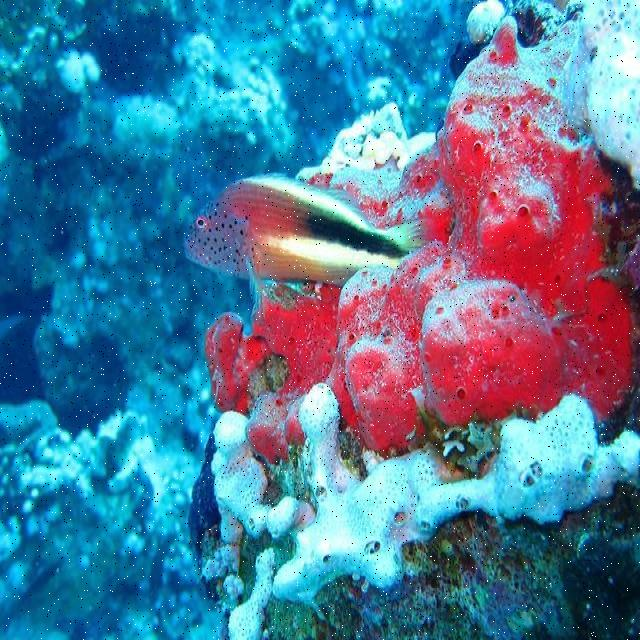fish: (180, 173, 433, 306)
reefs: (187, 1, 638, 639)
